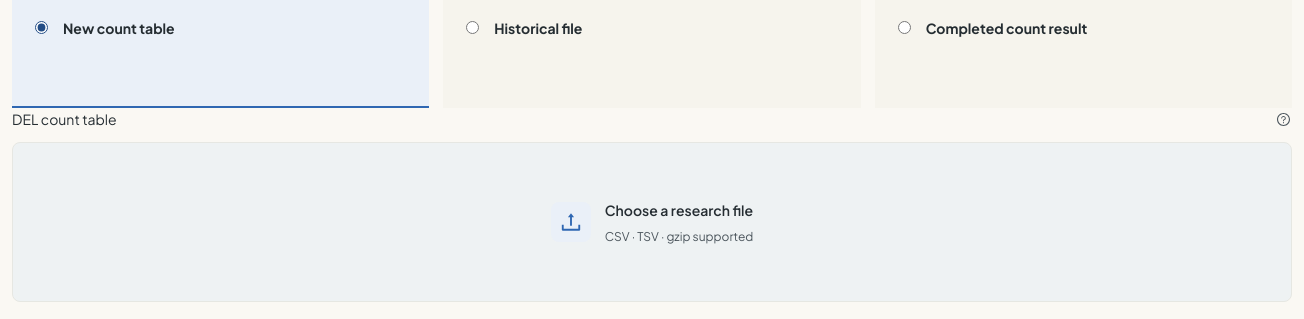
offers one source question and keeps historical bytes as the selected material in en
Check: the radio button labelled "New count table" is checked, box [35,21,48,34]
Click the radio button labelled "Historical file".
click(473, 28)  # box [466,21,479,34]
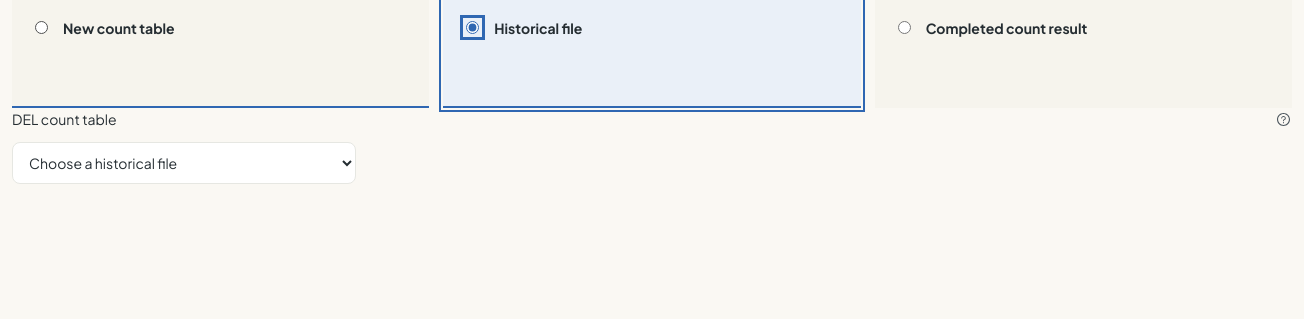
Select "DEL target and reference counts.csv · 0.0 MB" in the dropdown named "DEL count table" at (184, 163), box [12,142,356,184]
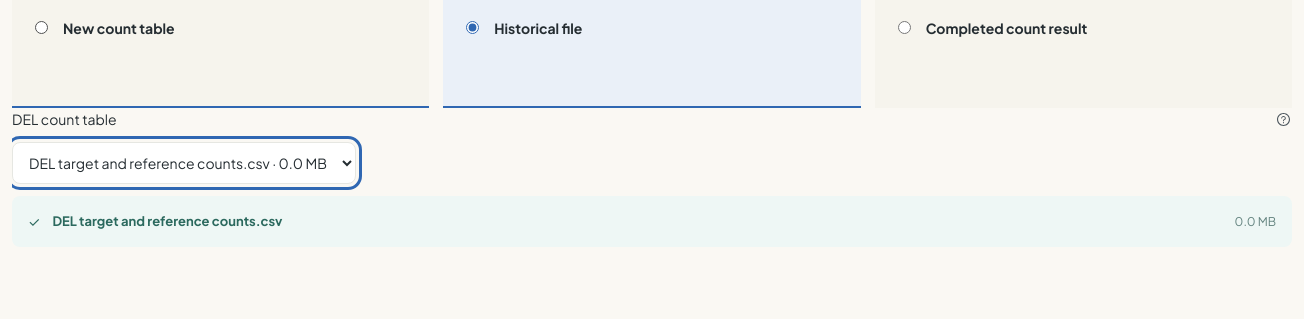
Check: the text "DEL target and reference counts.csv" is shown, box [52,211,282,232]
Click the radio button labelled "Completed count result".
click(904, 28)  # box [898,21,911,34]
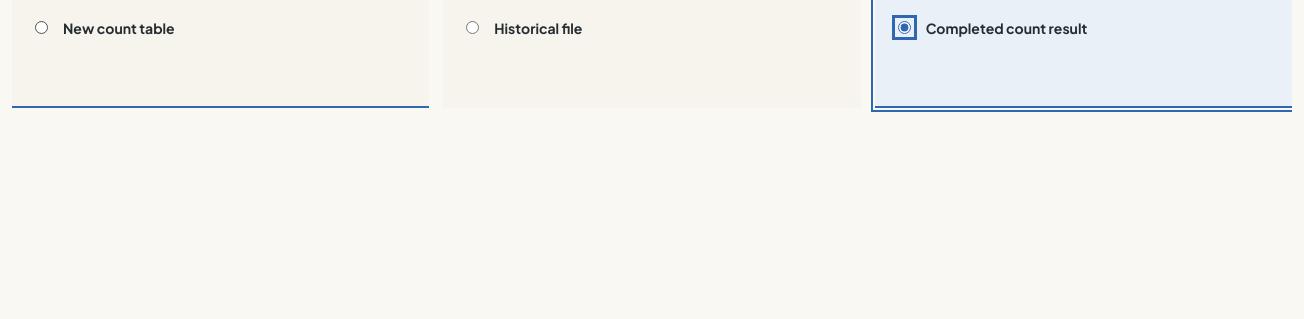
Check: the dropdown is gone
Check: the text "DEL target and reference counts.csv" is gone
